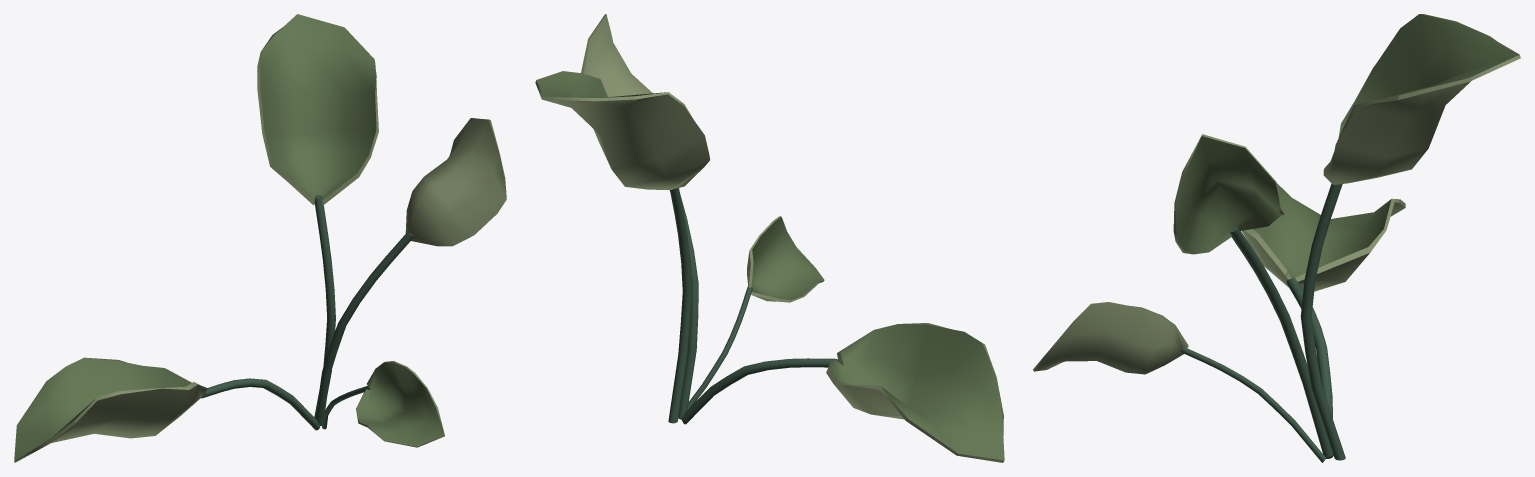
Rendered from PL_cabbageStage1_01.fbx.
3 views of the same model, side by side, from view 1: azimuth 30°, elevation 25°; view 2: azimuth 150°, elevation 25°; view 3: azimuth 270°, elevation 25° (orthographic). The views are drawn at different scales.
Visible parts, largest first — view 1: PL_cabbageStage1_01; view 2: PL_cabbageStage1_01; view 3: PL_cabbageStage1_01.
Part boxes in pixels (x1,y1,x2,y2): PL_cabbageStage1_01: [14, 14, 506, 462]; PL_cabbageStage1_01: [535, 14, 1004, 462]; PL_cabbageStage1_01: [1033, 14, 1520, 462].
Size of the model in its own units: 33.01 by 25.42 by 25.55.
1 material, 1 textured.
